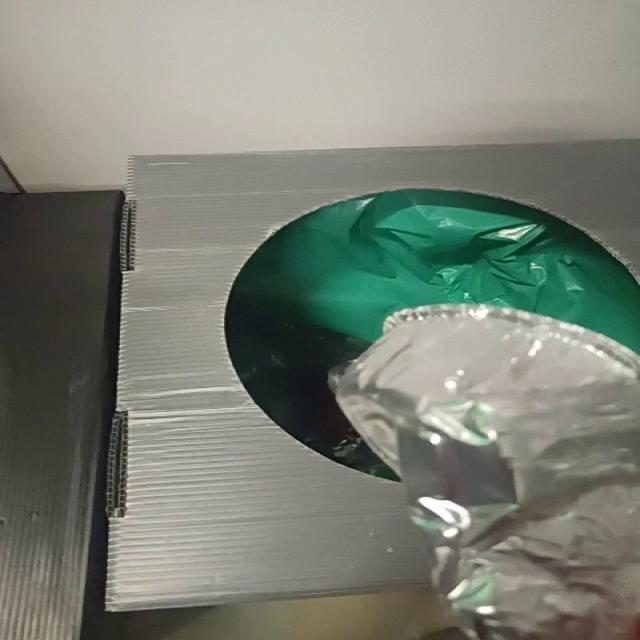Bin: (105, 140, 637, 612)
Metal: (333, 305, 639, 640)
